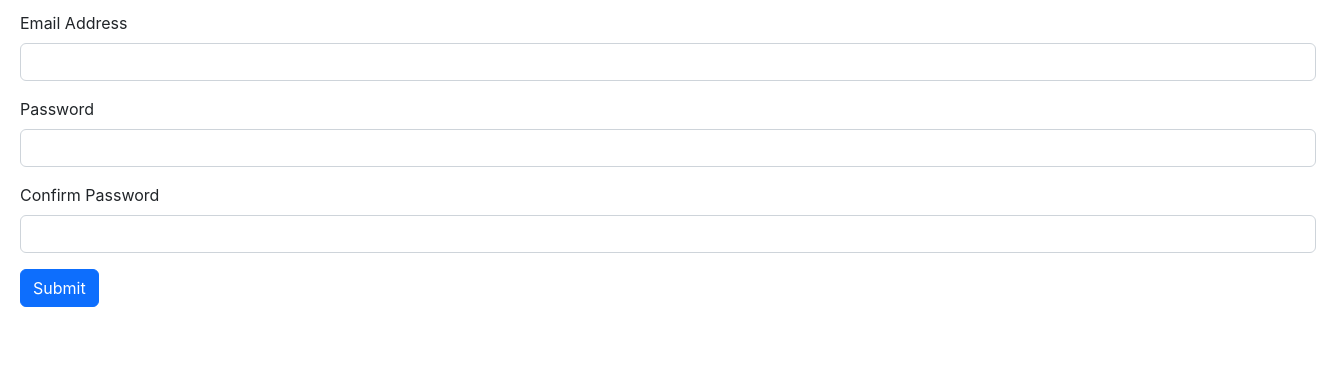
Test: Signup.tsx › Should show confirm password error message if passwords don't match
Type "alvin@gmail.com" into the field at (668, 62), box [20,43,1316,81]
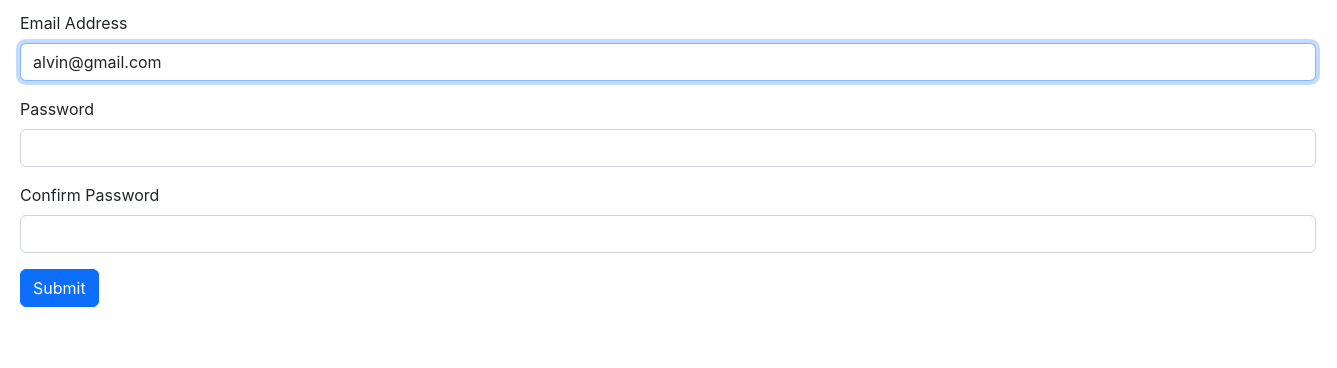
Type "12345" into the password field labelled "Password" at (668, 148), box [20,129,1316,167]
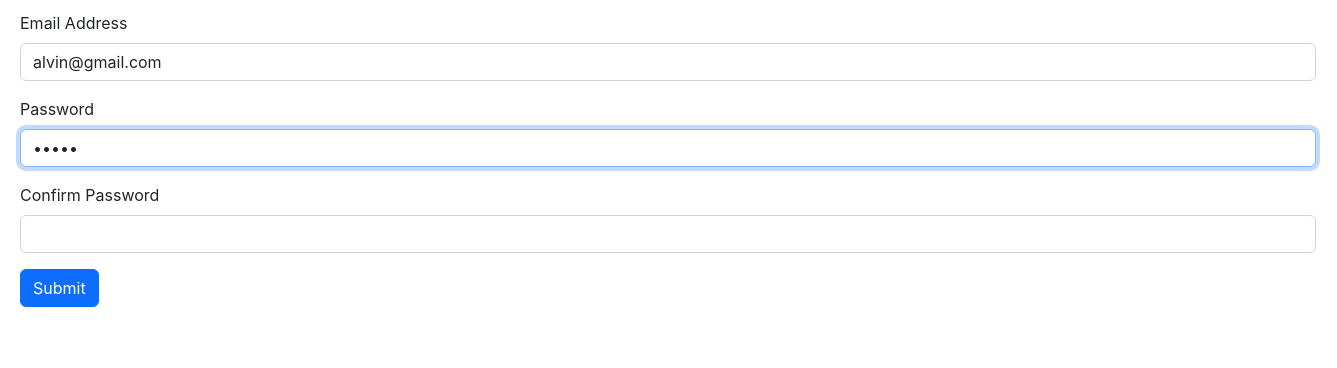
Type "123456" into the password field labelled "Confirm Password" at (668, 234), box [20,215,1316,253]
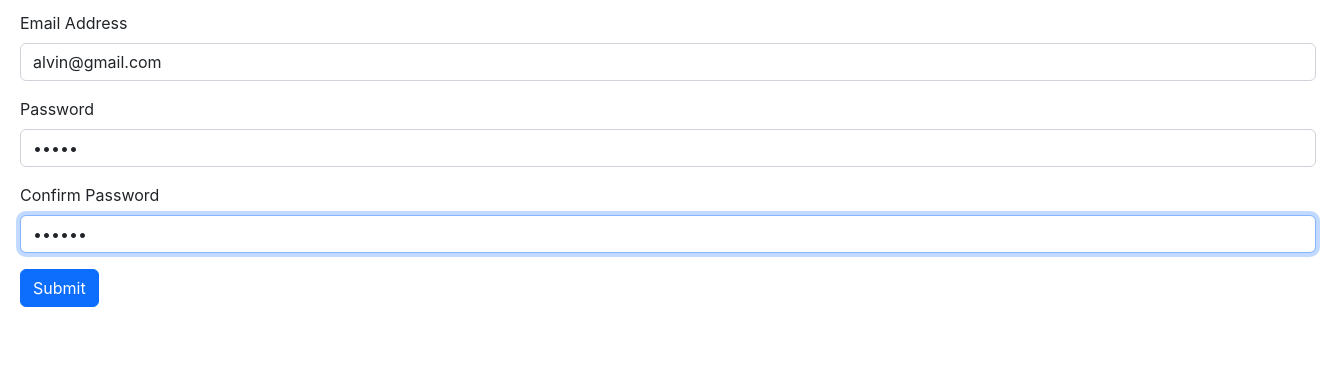
Expected: the text "passwords don't match" is not shown
Click the button "Submit" at (59, 288), box [20,269,99,307]
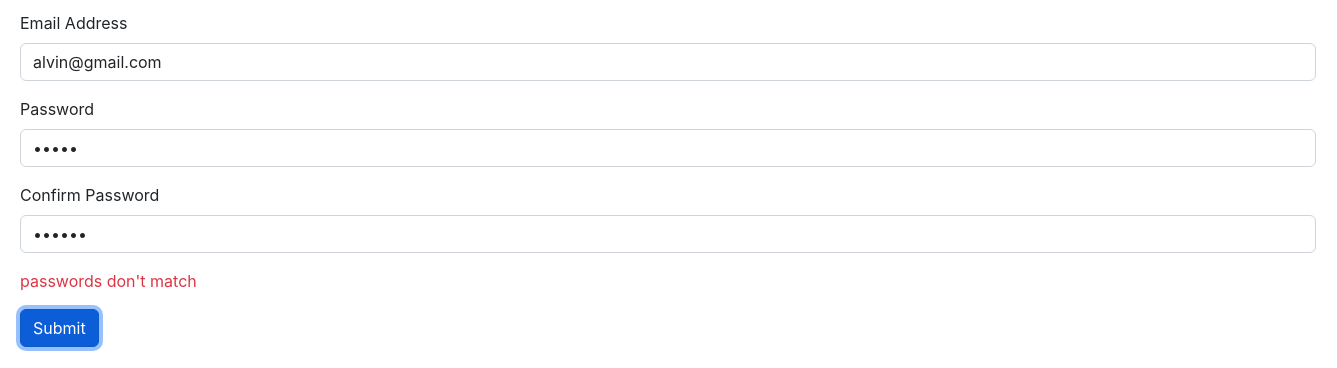
Expected: the text "passwords don't match" is shown, [20,271,197,291]
